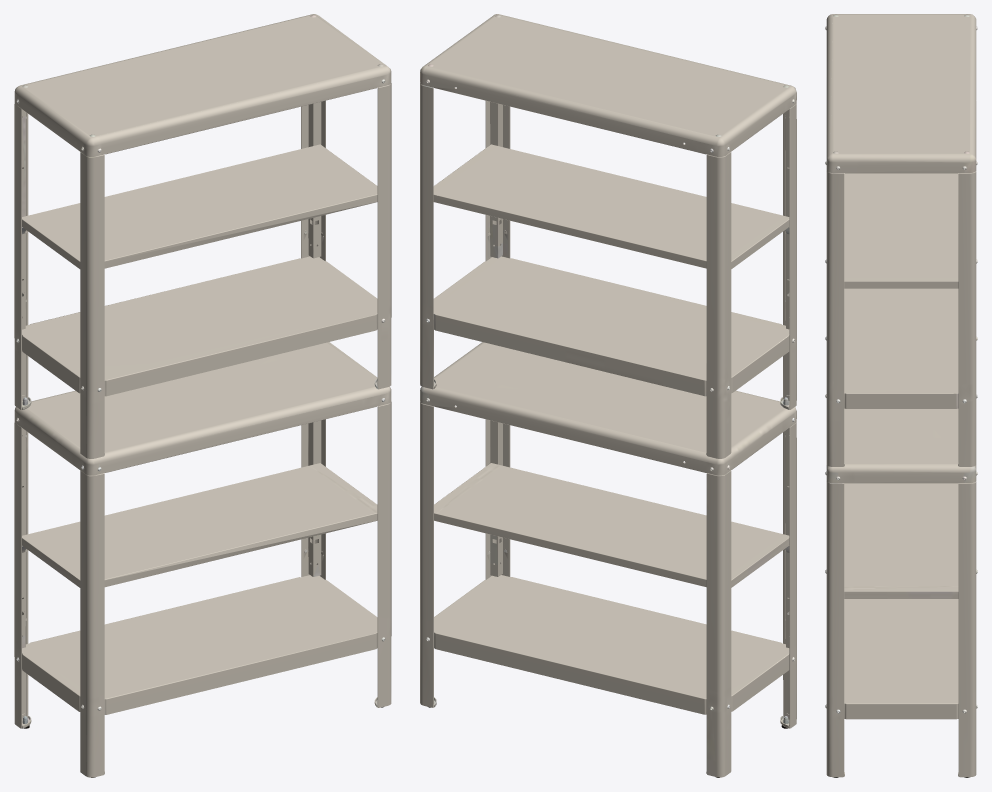
File: kolbjorn-estanteria-de-interior-y-exterior-80x35x162-cm-99291646.glb
3 views of the same model, side by side, from view 1: azimuth 30°, elevation 25°; view 2: azimuth 150°, elevation 25°; view 3: azimuth 270°, elevation 25° (orthographic). The views are drawn at different scales.
Parts seen in each view (by area): view 1: Mesh_0; view 2: Mesh_0; view 3: Mesh_0.
Part boxes in pixels (x1,y1,x2,y2): Mesh_0: (14,14,391,777); Mesh_0: (420,14,796,777); Mesh_0: (825,14,977,777).
Size of the model in its own units: 0.8057 by 1.61 by 0.3557.
Materials: 1 (1 with a texture image).
